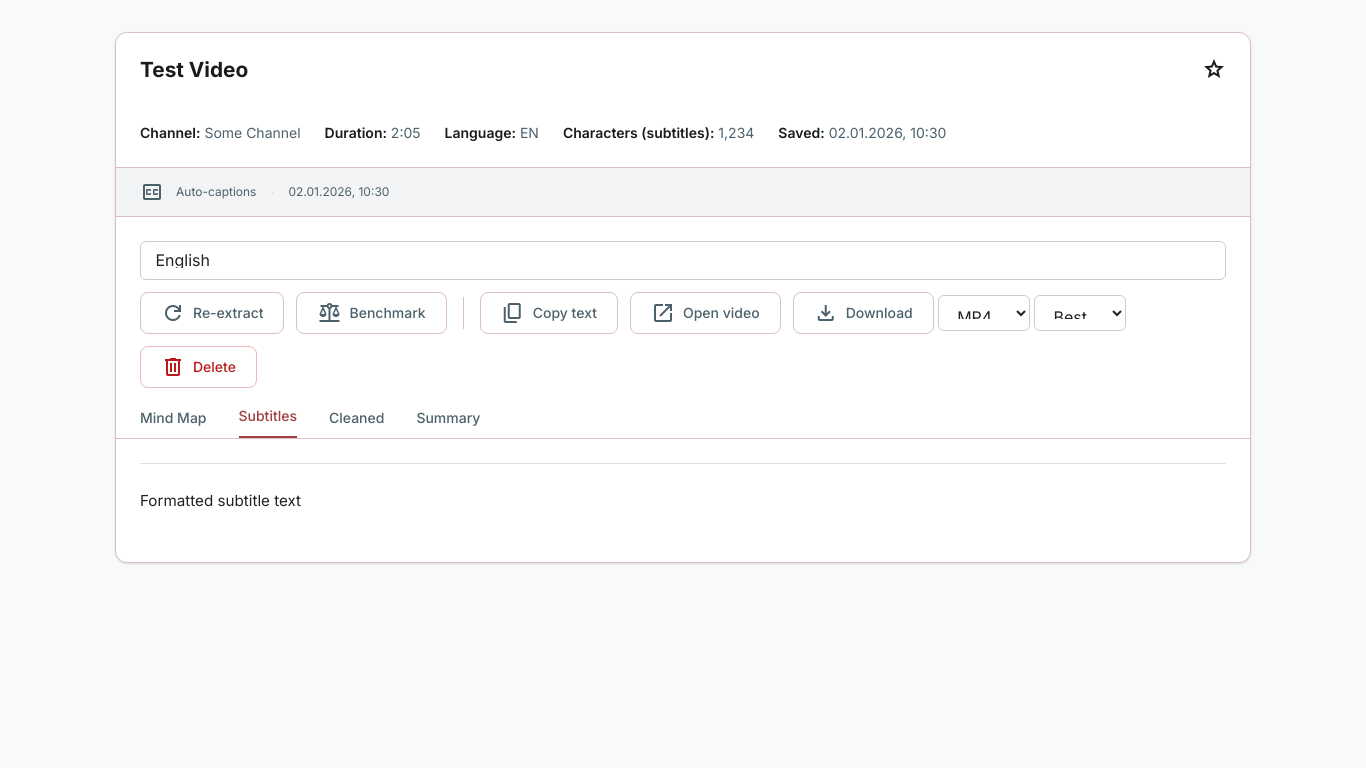
Test case: ResultPage › Summarize before any cleanup: after choosing Run cleanup, then summarize ONE item with both stages is queued by the video id
The image size is (1366, 768).
Expected: the heading "Test Video" is shown, x1=140 y1=57 x2=248 y2=82
Click the button "Summary" at (448, 424), box x1=416 y1=410 x2=480 y2=438
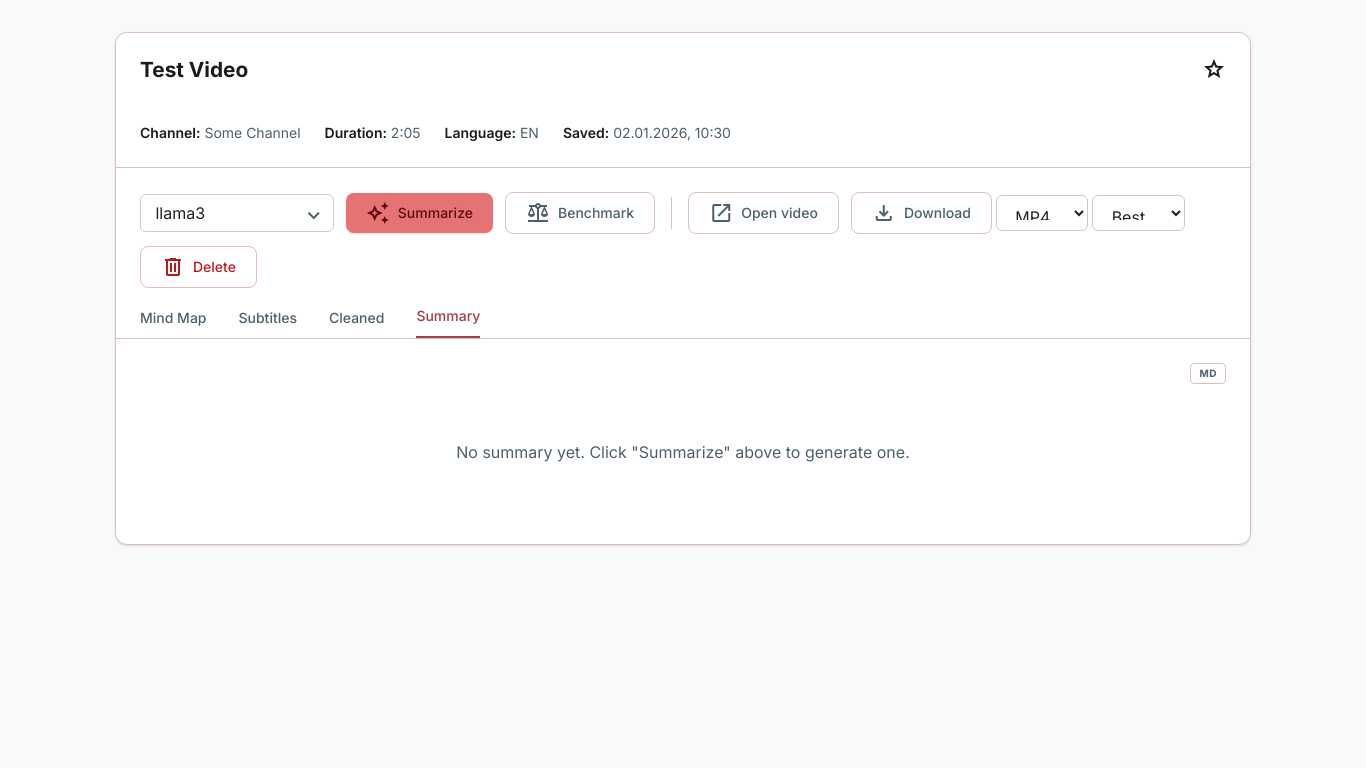
Click the button "Summarize" at (419, 213), box x1=346 y1=193 x2=493 y2=233
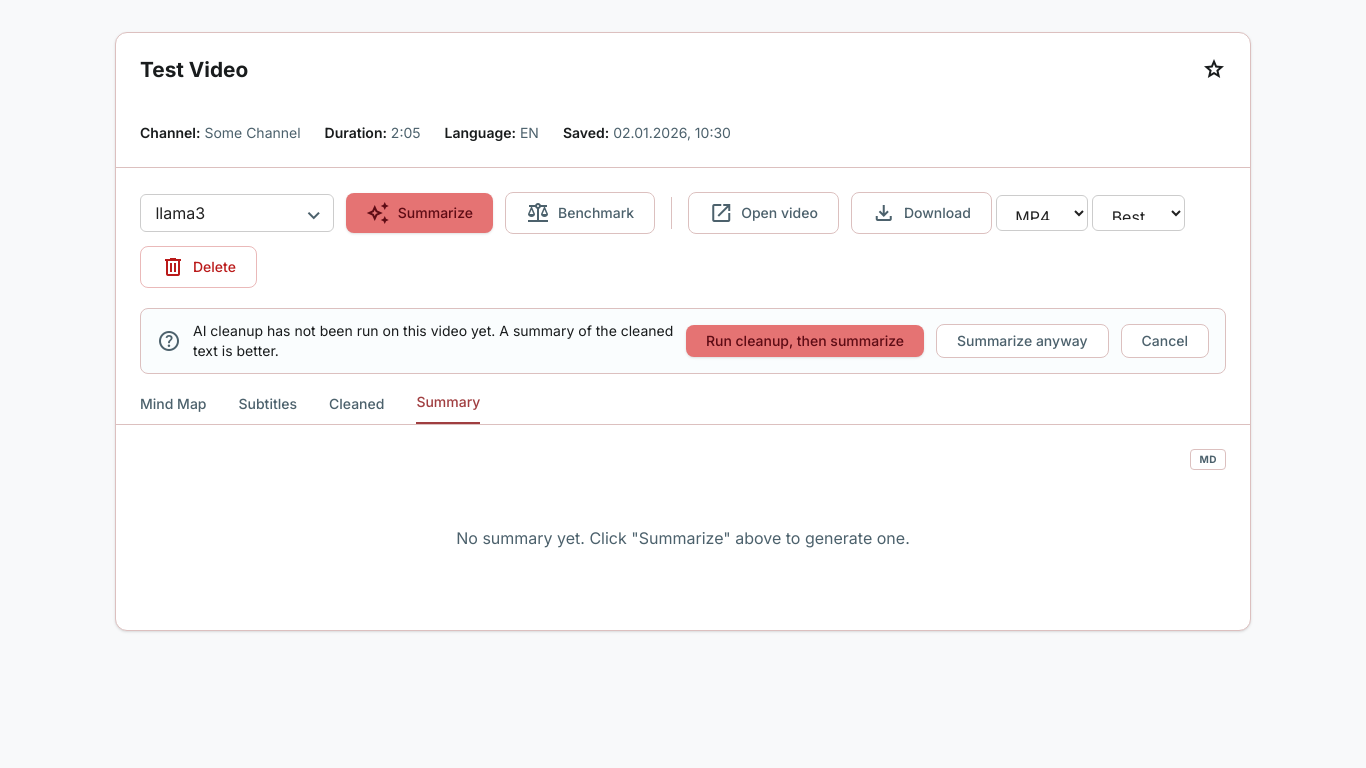
Click the button "Run cleanup, then summarize" at (805, 341), box x1=686 y1=325 x2=924 y2=357
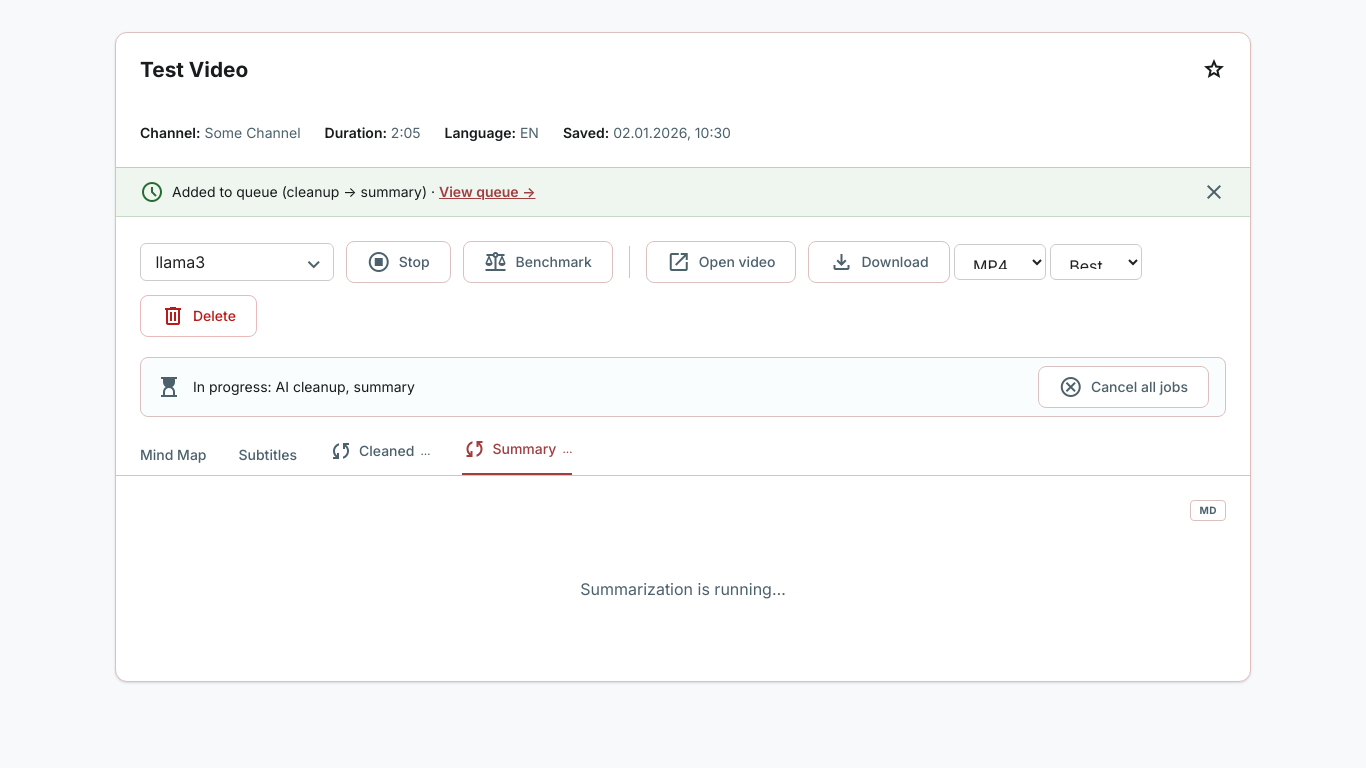
Expected: the text "Added to queue (cleanup → summary) · View queue →" is shown, x1=172 y1=182 x2=536 y2=202
